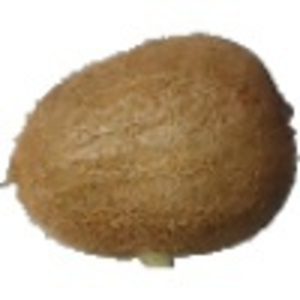kiwi: (2, 33, 300, 272)
